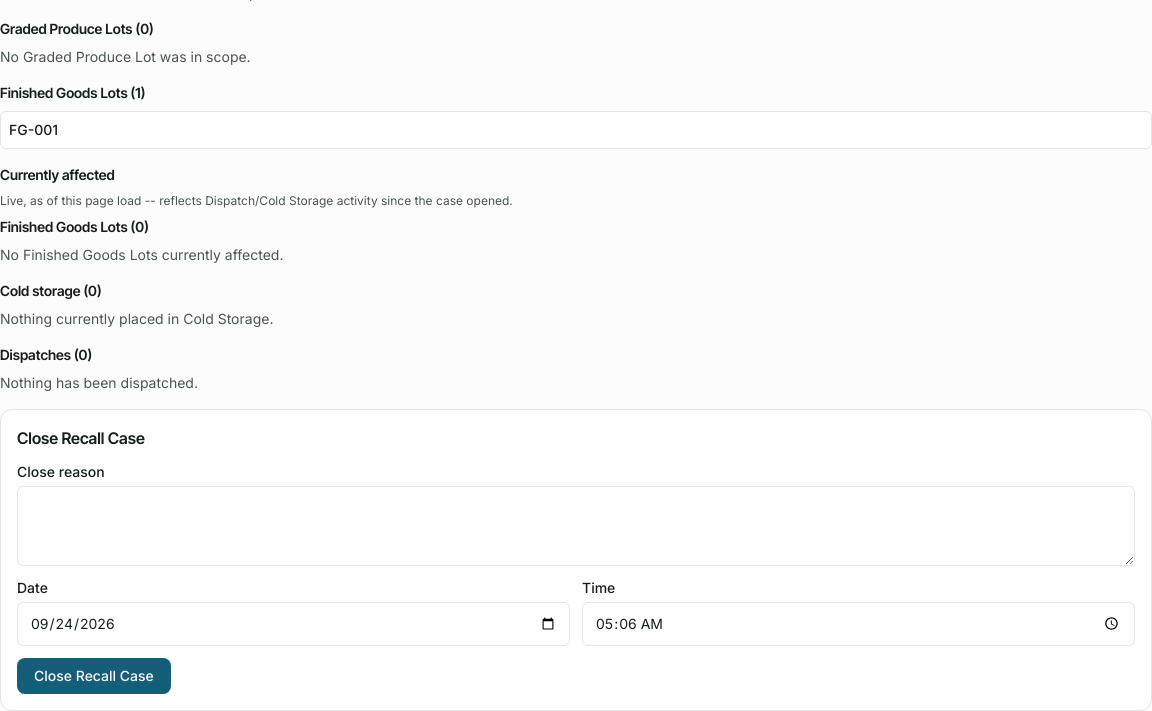
Test case: RecallCaseDetailPage › closes an open Recall Case
(page scrolled)
Expected: the heading "Currently affected" is shown, [0, 166, 115, 183]
Expected: the link "FG-001" is shown, [9, 121, 58, 138]
Type "resolved" into the text box labelled "Close reason" at x=576, y=526, box [17, 486, 1135, 566]
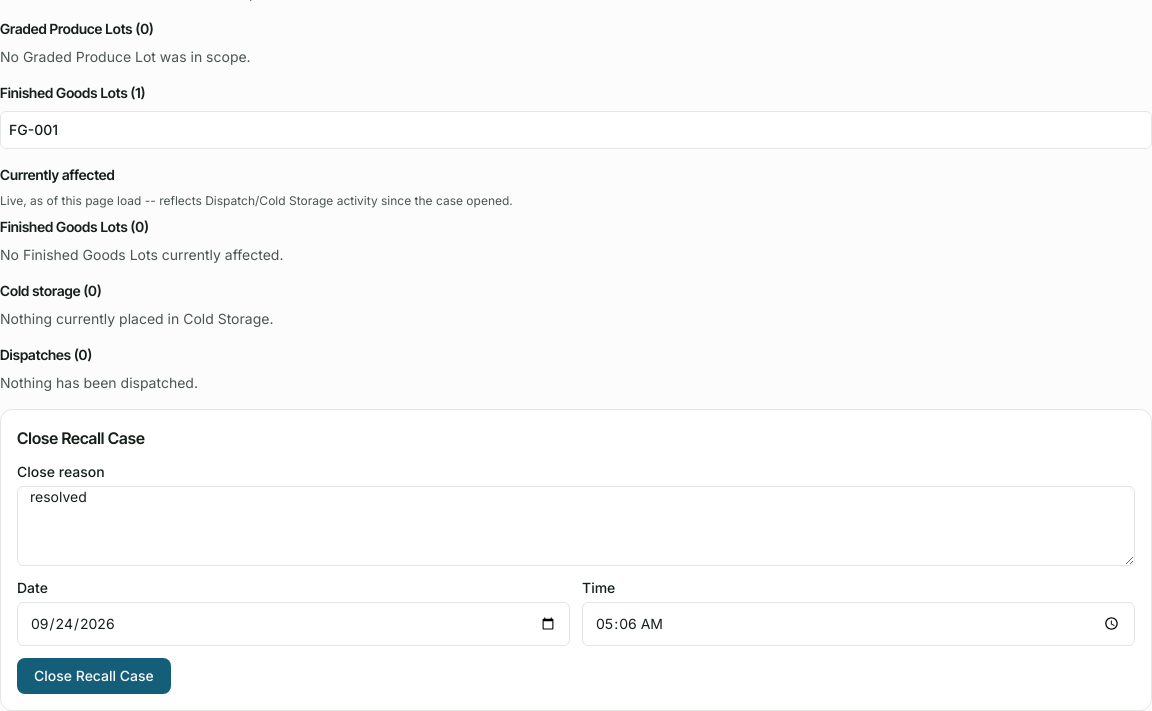
Click the button "Close Recall Case" at x=94, y=676, box [17, 658, 171, 694]
(page scrolled)
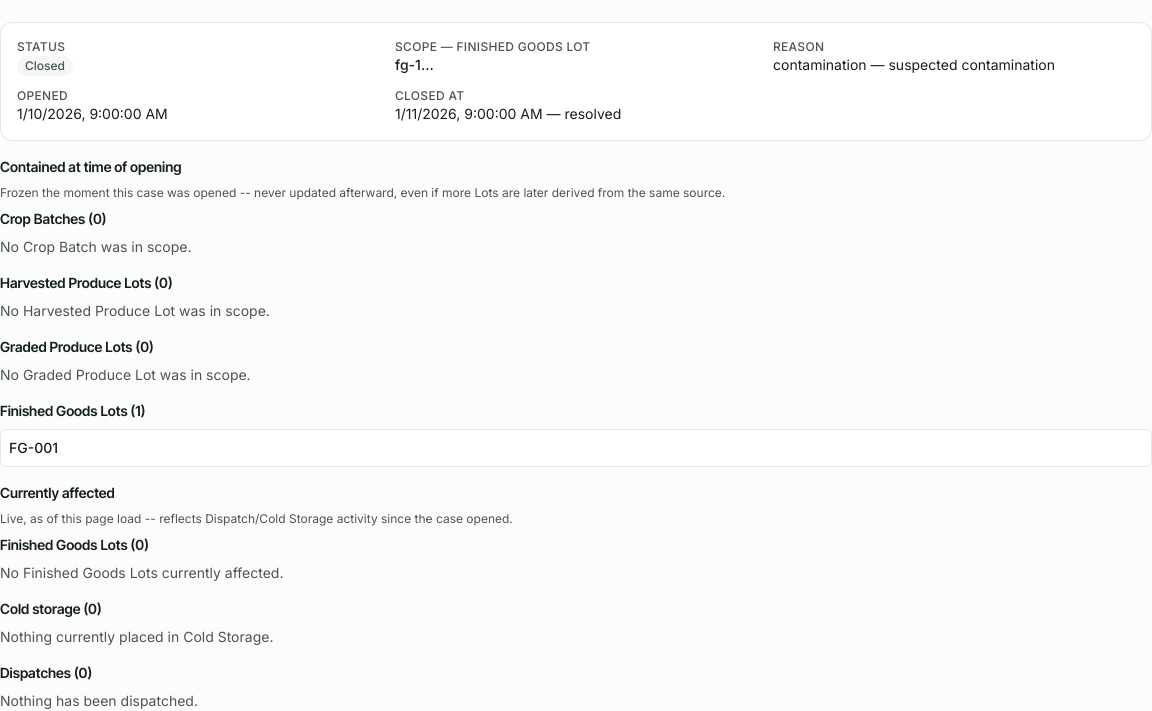
Now the text "Closed" is shown, box [17, 56, 73, 76]
